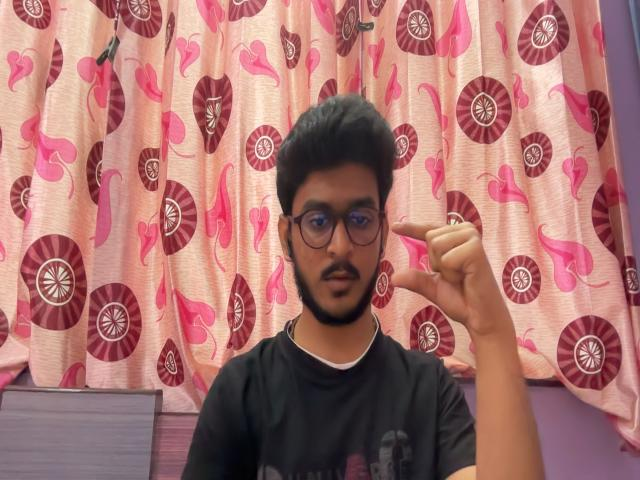No: (386, 204, 532, 362)
